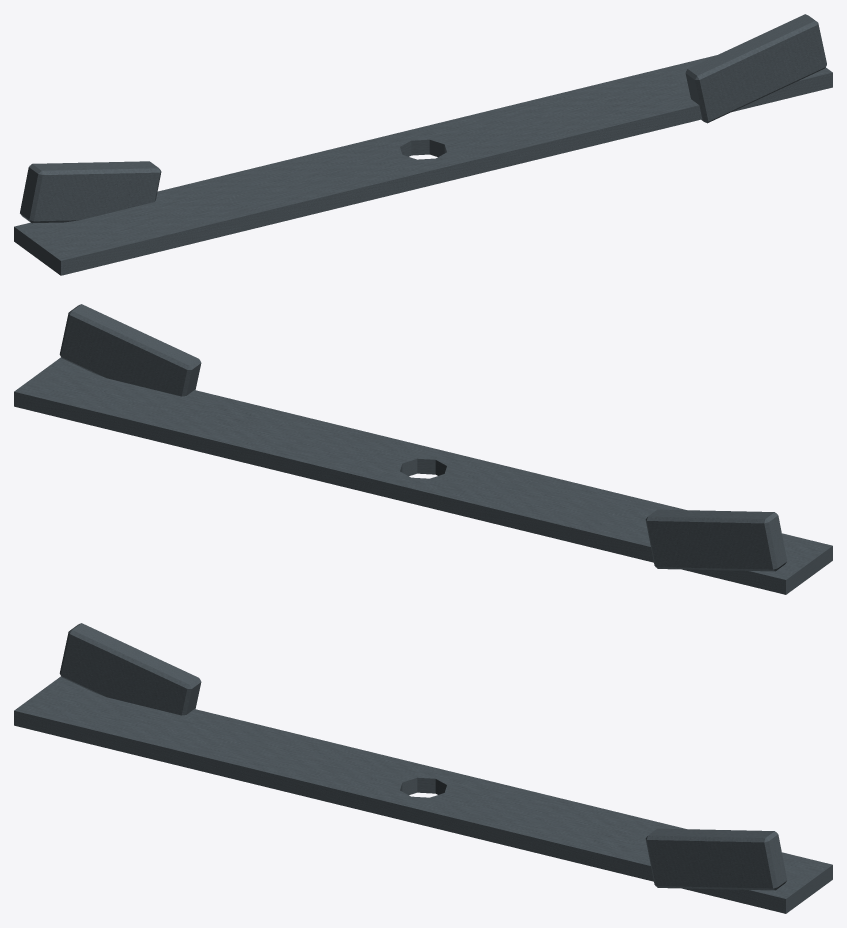
Rendered from SpareMowerBlade.gltf.
The picture shows the model from 3 angles, top to bottom: view 1: azimuth 30°, elevation 25°; view 2: azimuth 150°, elevation 25°; view 3: azimuth 330°, elevation 25°; orthographic projection.
Visible parts, largest first — view 1: SpareMowerBlade__Body; view 2: SpareMowerBlade__Body; view 3: SpareMowerBlade__Body.
Part boxes in pixels (x1=…): SpareMowerBlade__Body: x1=14, y1=14, x2=832, y2=275; SpareMowerBlade__Body: x1=14, y1=304, x2=832, y2=594; SpareMowerBlade__Body: x1=14, y1=623, x2=832, y2=913.
Bounding box in the file's own units: 0.532 × 0.0501 × 0.063.
Materials: 1 (1 with a texture image).
